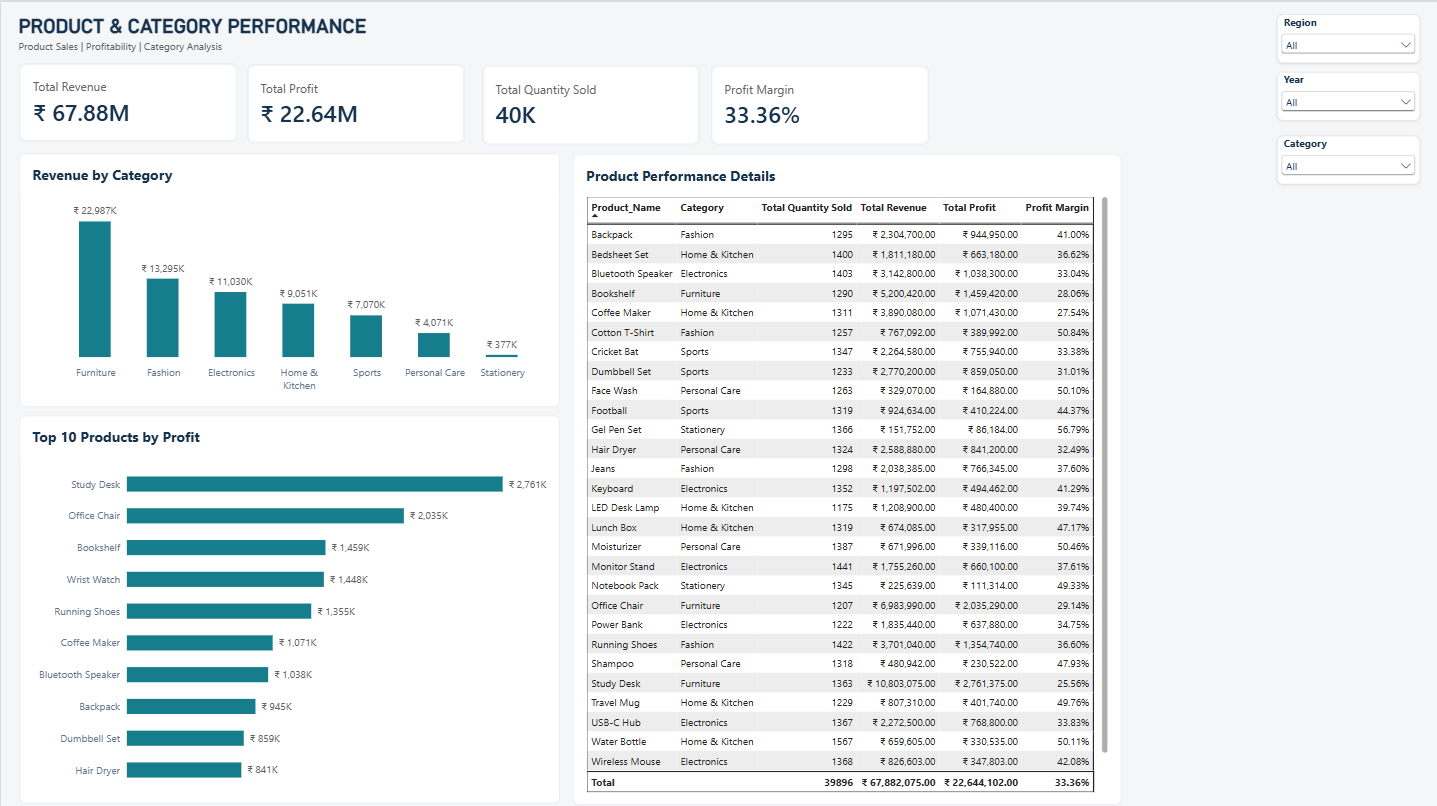

The dashboard page shown, as its layout file describes it:
{"tool":"powerbi","page":{"name":"Product & Category","canvas":[1920,1080],"ordinal":1},"visuals":[{"type":"textbox","title":"PRODUCT & CATEGORY PERFORMANCE","box":[24,16,900,65],"z":0},{"type":"cardVisual","fields":{"Data":["retail_sales_db sales.Total Revenue"]},"box":[24.3,81.4,290,105],"z":1000},{"type":"cardVisual","fields":{"Data":["retail_sales_db sales.Total Profit"]},"box":[328.6,82.9,290,105],"z":2000},{"type":"cardVisual","fields":{"Data":["retail_sales_db sales.Total Quantity Sold"]},"box":[641.4,84.3,290,105],"z":3000},{"type":"cardVisual","fields":{"Data":["retail_sales_db sales.Profit Margin"]},"box":[947.1,85.7,290,105],"z":4000},{"type":"clusteredColumnChart","title":"Revenue by Category","fields":{"Category":["retail_sales_db sales.Category"],"Y":["retail_sales_db sales.Total Revenue"]},"box":[24.3,201.4,720,338.6],"z":5000},{"type":"clusteredBarChart","title":"Top 10 Products by Profit","fields":{"Category":["retail_sales_db sales.Product_Name"],"Y":["retail_sales_db sales.Total Profit"]},"box":[24.3,551.4,720,517.1],"z":6000},{"type":"tableEx","title":"Product Performance Details","fields":{"Values":["retail_sales_db sales.Product_Name","retail_sales_db sales.Category","retail_sales_db sales.Total Quantity Sold","retail_sales_db sales.Total Revenue","retail_sales_db sales.Total Profit","retail_sales_db sales.Profit Margin"]},"box":[762.5,202.5,730,867.5],"z":7000},{"type":"slicer","title":"Year","fields":{"Values":["Date_Table.Year"]},"box":[1702,94,190,65],"z":11000},{"type":"slicer","fields":{"Values":["retail_sales_db sales.Region"]},"box":[1702,16,190,65],"z":12000},{"type":"slicer","fields":{"Values":["retail_sales_db sales.Category"]},"box":[1702,178,190,65],"z":13000}]}

Visuals, with their boxes in screenshot pixels (x1, y1, x2, y2), scaled from the page's 1920x1080 canvas onto the 1437x806 screenshot:
"PRODUCT & CATEGORY PERFORMANCE" textbox: (x1=18, y1=12, x2=692, y2=60)
cardVisual - retail_sales_db sales.Total Revenue: (x1=18, y1=61, x2=235, y2=139)
cardVisual - retail_sales_db sales.Total Profit: (x1=246, y1=62, x2=463, y2=140)
cardVisual - retail_sales_db sales.Total Quantity Sold: (x1=480, y1=63, x2=697, y2=141)
cardVisual - retail_sales_db sales.Profit Margin: (x1=709, y1=64, x2=926, y2=142)
"Revenue by Category" clusteredColumnChart: (x1=18, y1=150, x2=557, y2=403)
"Top 10 Products by Profit" clusteredBarChart: (x1=18, y1=412, x2=557, y2=797)
"Product Performance Details" tableEx: (x1=571, y1=151, x2=1117, y2=799)
"Year" slicer: (x1=1274, y1=70, x2=1416, y2=119)
slicer - retail_sales_db sales.Region: (x1=1274, y1=12, x2=1416, y2=60)
slicer - retail_sales_db sales.Category: (x1=1274, y1=133, x2=1416, y2=181)
